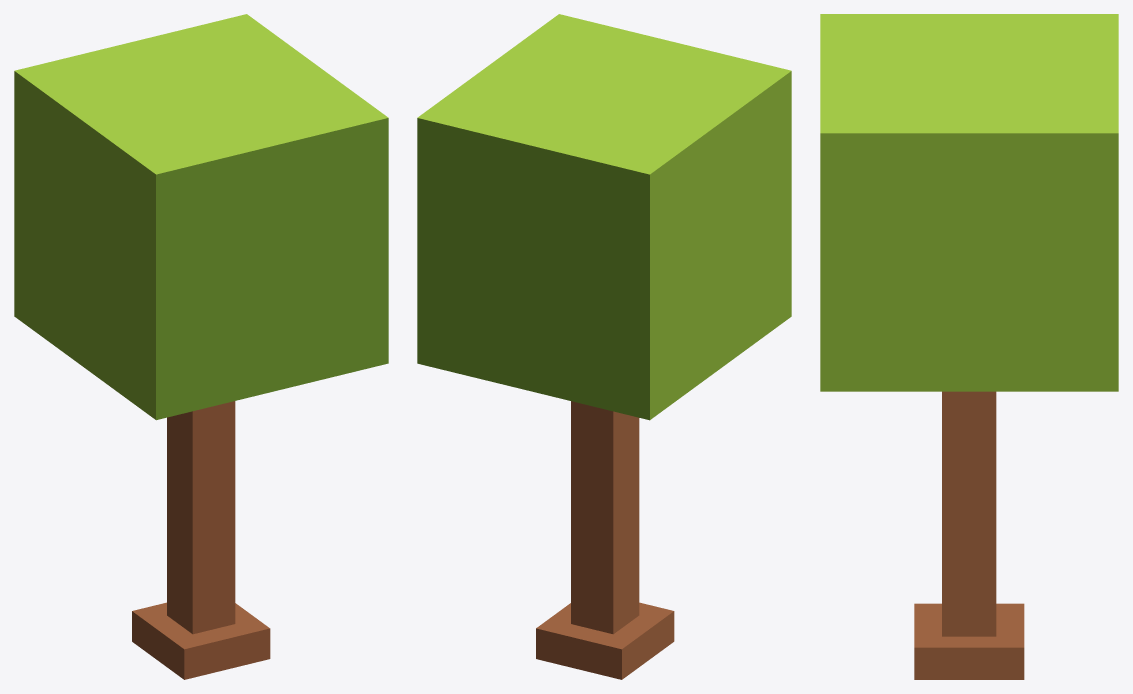
File: tree4.obj
The picture shows the model from 3 angles, left to right: view 1: azimuth 30°, elevation 25°; view 2: azimuth 150°, elevation 25°; view 3: azimuth 270°, elevation 25°; orthographic projection. The views are drawn at different scales.
Visible parts, largest first — view 1: ST_Prop_Tree_small_Untitled; view 2: ST_Prop_Tree_small_Untitled; view 3: ST_Prop_Tree_small_Untitled.
Part boxes in pixels (x1,y1,x2,y2): ST_Prop_Tree_small_Untitled: (14,14,388,679); ST_Prop_Tree_small_Untitled: (417,14,791,679); ST_Prop_Tree_small_Untitled: (820,14,1118,679).
Bounding box in the file's own units: 1.95 × 4.46 × 2.06.
Materials: 1 (1 with a texture image).
